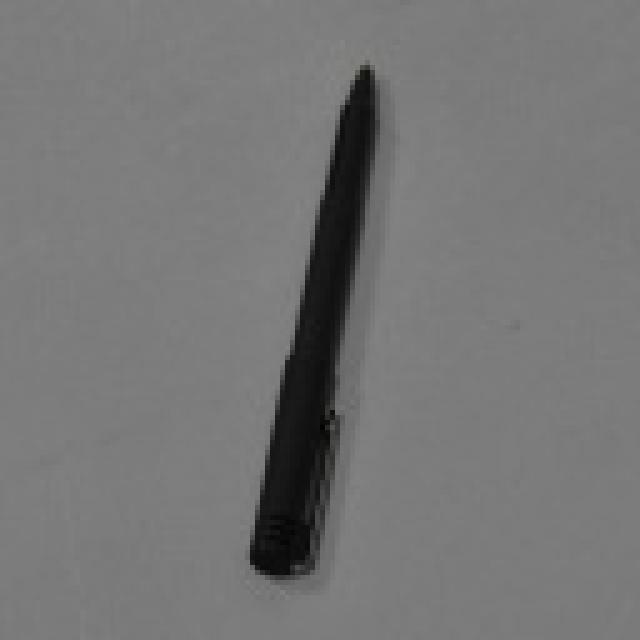pen: (244, 55, 390, 587)
